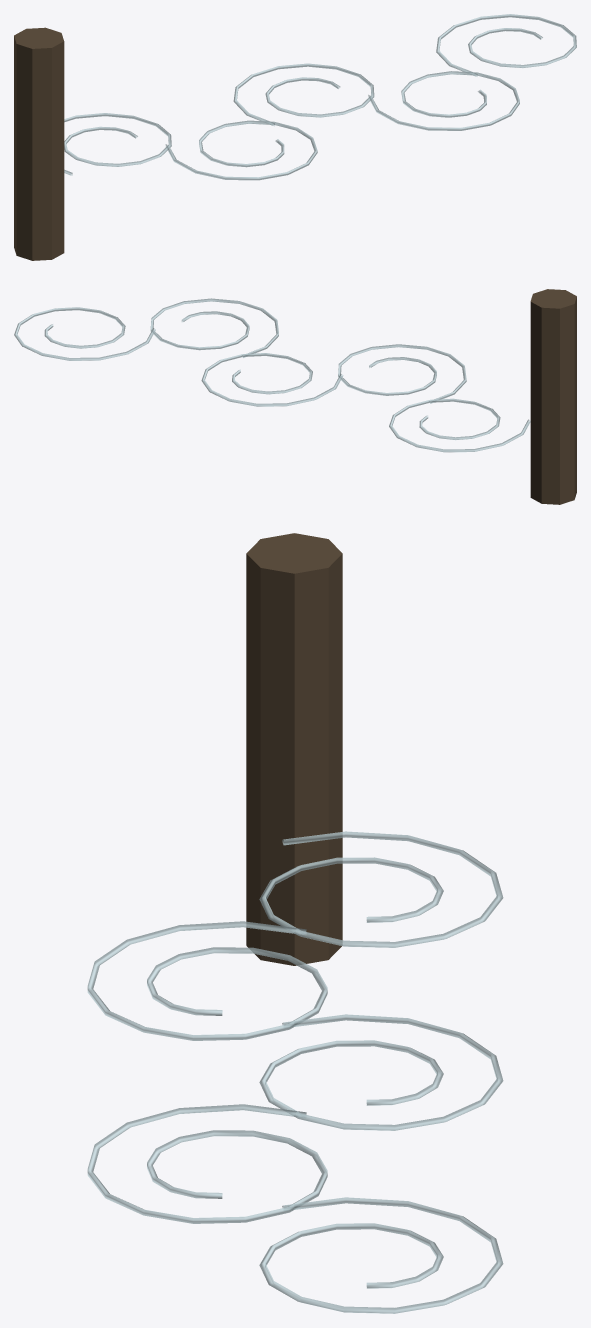
The model's file is lake-karman-shallows-1.glb.
3 renders of one model, top to bottom at view 1: azimuth 30°, elevation 25°; view 2: azimuth 150°, elevation 25°; view 3: azimuth 270°, elevation 25°, orthographic. The views are drawn at different scales.
Parts seen in each view (by area): view 1: lake-karman-shallows-1; view 2: lake-karman-shallows-1; view 3: lake-karman-shallows-1.
Boxes of the visible parts, box(x1,y1,x2,y2) form: lake-karman-shallows-1: box(14, 14, 576, 260); lake-karman-shallows-1: box(14, 289, 576, 504); lake-karman-shallows-1: box(87, 533, 503, 1313).
Bounding box in the file's own units: 2.55 × 0.9 × 0.8648.
